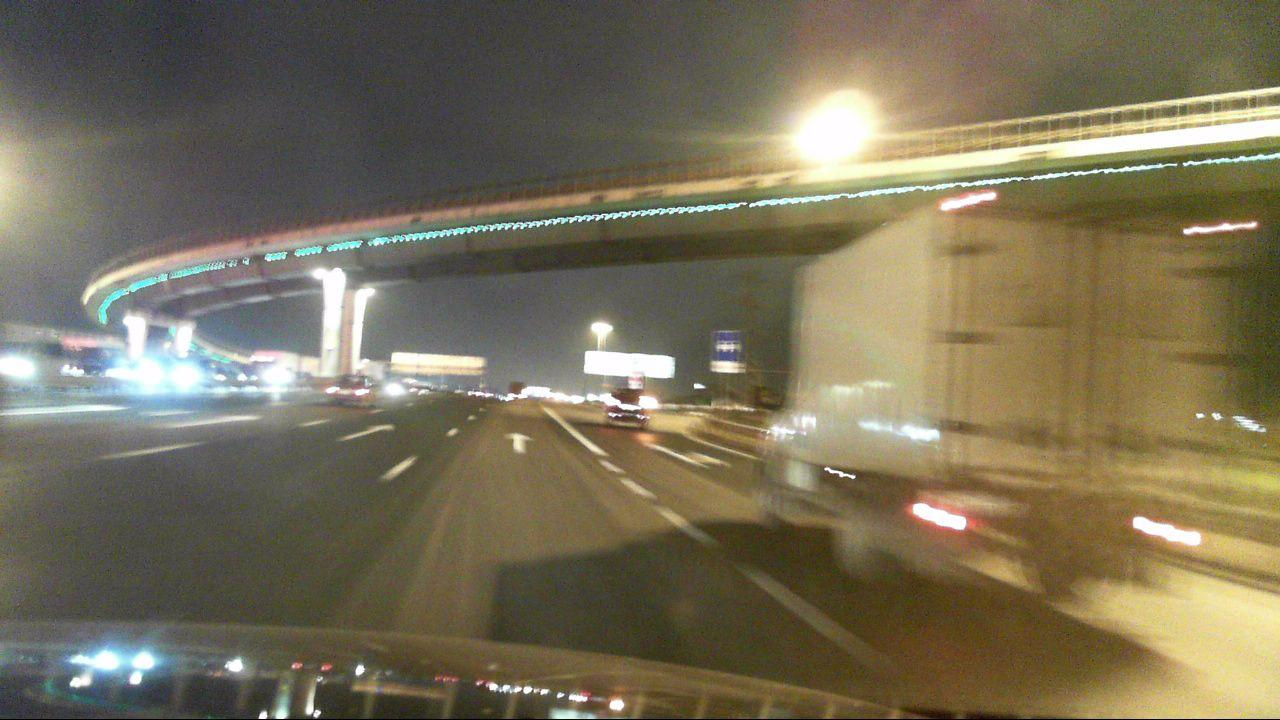5_3: (716, 330, 741, 361)
